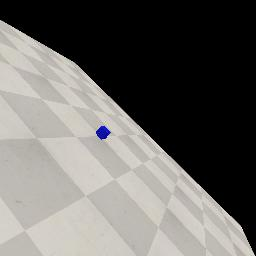box: (96, 126, 111, 140)
